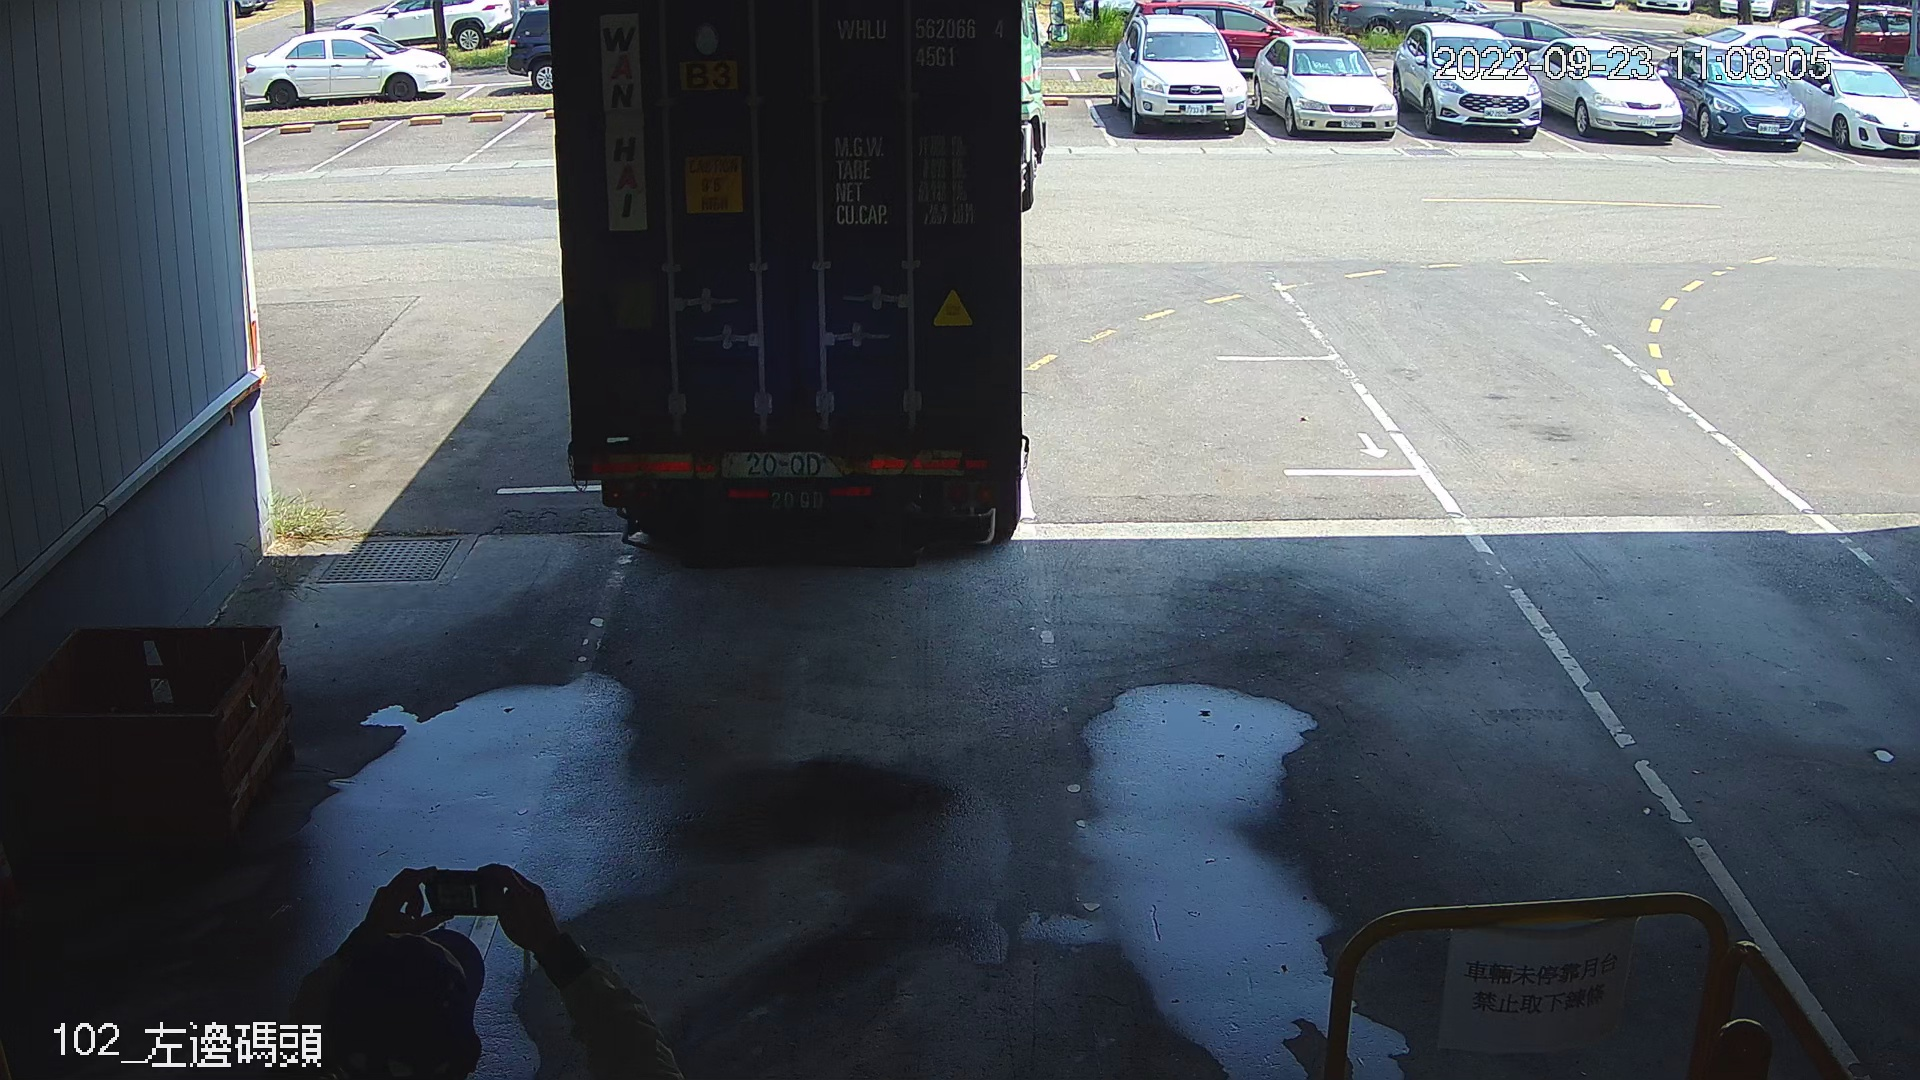container: (828, 7, 1013, 76)
